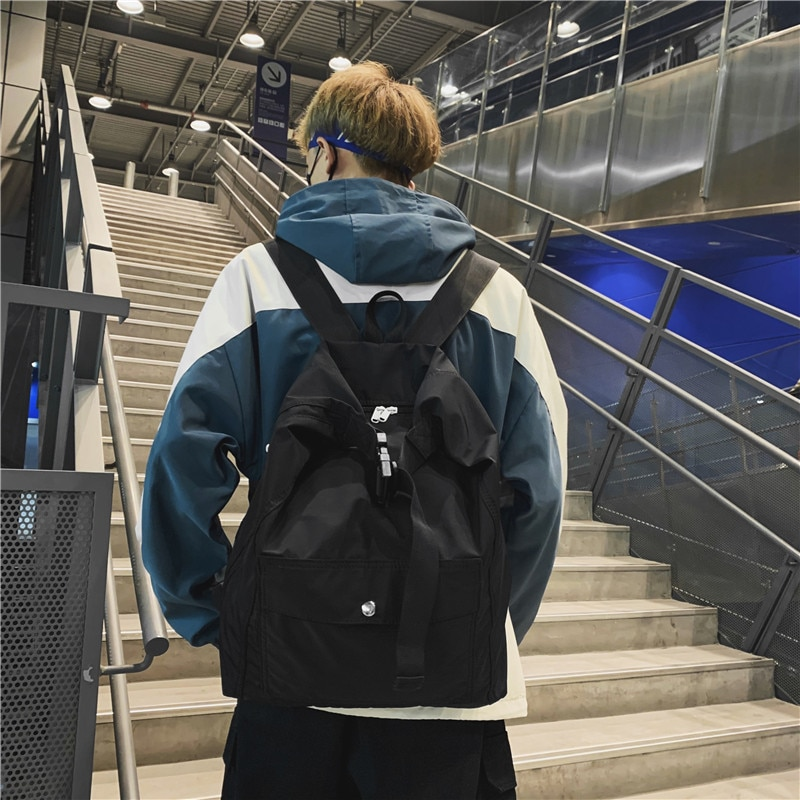Men's Backpacks: (218, 238, 504, 709)
Tops: (136, 174, 573, 621)
